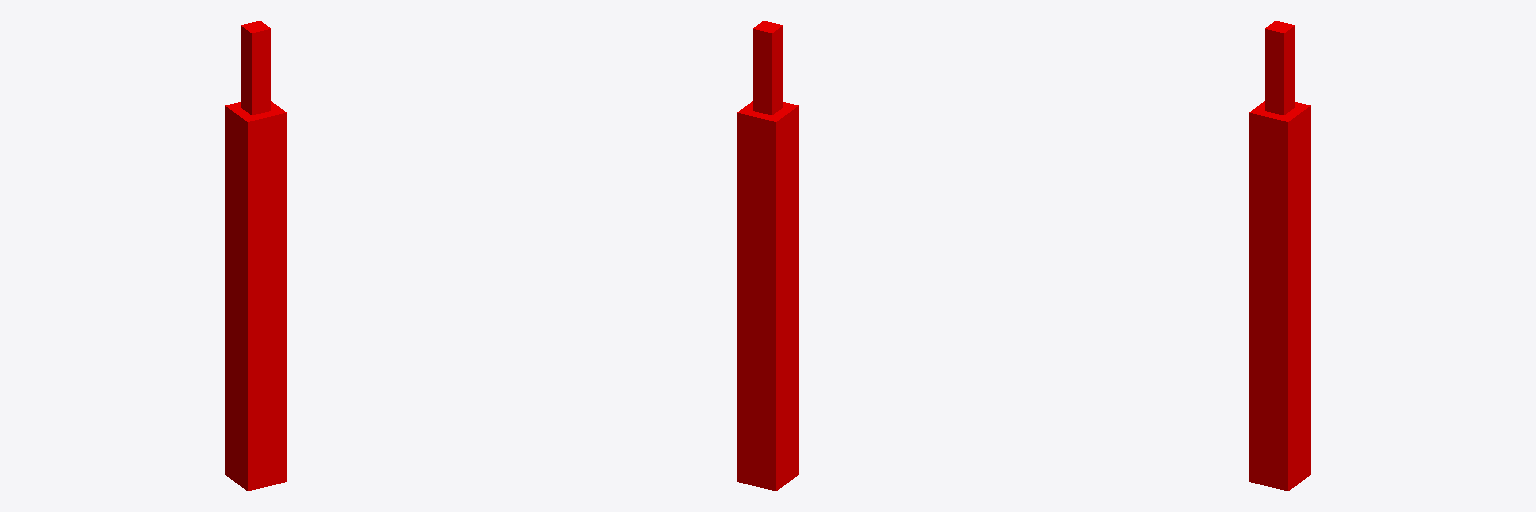
robot.urdf — test_robot:
<robot name="test_robot">
  <material name="red">
    <color rgba="1.0 0.0 0.0 2.0"/>
  </material>

  <link name="base_link"/>

  <joint name="body0_joint_yaw" type="revolute">
    <parent link="base_link"/>
    <child  link="body0_link_yaw"/>
    <origin xyz="0 0 0" rpy="0 1.5707 0"/>
    <limit lower="-3.15" upper="3.15" effort="0" velocity="0"/>
  </joint>
  <link name="body0_link_yaw">
    <visual>
      <geometry>
        <box size="0 0 0"/>
      </geometry>
      <origin xyz="0 0 0" rpy="0 0 0"/>
      <material name="red"/>
    </visual>
  </link>

  <joint name="body1_joint" type="revolute">
    <parent link="body0_link_yaw"/>
    <child  link="body1_link"/>
    <origin xyz="0 0 0" rpy="1.5707 -1.5707 -1.5707"/>
    <limit lower="-10" upper="10" effort="0" velocity="0"/>
  </joint>
  <link name="body1_link">
    <visual>
      <geometry>
        <box size="0.1 0.1 0.5"/>
      </geometry>
      <origin xyz="0 0 0.25" rpy="0 0 0"/>
      <material name="red"/>
    </visual>
  </link>

  <joint name="body2_joint" type="revolute">
    <parent link="body1_link"/>
    <child  link="body2_link"/>
    <origin xyz="0 0 0.5" rpy="0 0 0"/>
    <limit lower="-10" upper="10" effort="0" velocity="0"/>
  </joint>
  <link name="body2_link">
    <visual>
      <geometry>
        <box size="0.1 0.1 0.4"/>
      </geometry>
      <origin xyz="0 0 0.2" rpy="0 0 0"/>
      <material name="red"/>
    </visual>
  </link>

  <joint name="body3_joint" type="revolute">
    <parent link="body2_link"/>
    <child  link="body3_link"/>
    <origin xyz="0 0 0.4" rpy="0 0 0"/>
    <limit lower="-10" upper="10" effort="0" velocity="0"/>
  </joint>
  <link name="body3_link">
    <visual>
      <geometry>
        <box size="0.05 0.05 0.2"/>
      </geometry>
      <origin xyz="0 0 0.1" rpy="0 0 0"/>
      <material name="red"/>
    </visual>
  </link>
</robot>

--- Render facts (derived) ---
Views: 3 orthographic renders of the robot side by side, from view 1: azimuth 30°, elevation 25°; view 2: azimuth 150°, elevation 25°; view 3: azimuth 330°, elevation 25°.
Robot: test_robot — 5 links, 4 joints (4 revolute); root link base_link; default pose: every joint at zero.
Visible links, largest first — view 1: body1_link, body2_link, body3_link; view 2: body1_link, body2_link, body3_link; view 3: body1_link, body2_link, body3_link.
Link boxes in pixels (x1,y1,x2,y2): body1_link: (225,270,286,490); body2_link: (225,101,286,285); body3_link: (241,21,270,114); body1_link: (737,270,798,490); body2_link: (737,101,798,285); body3_link: (753,21,782,114); body1_link: (1249,270,1310,490); body2_link: (1249,101,1310,285); body3_link: (1265,21,1294,114).
Bounding box of the posed robot: 0.1001 × 0.1 × 1.1 m (x, y, z).
Geometry: primitives only (box / cylinder / sphere), no mesh files.